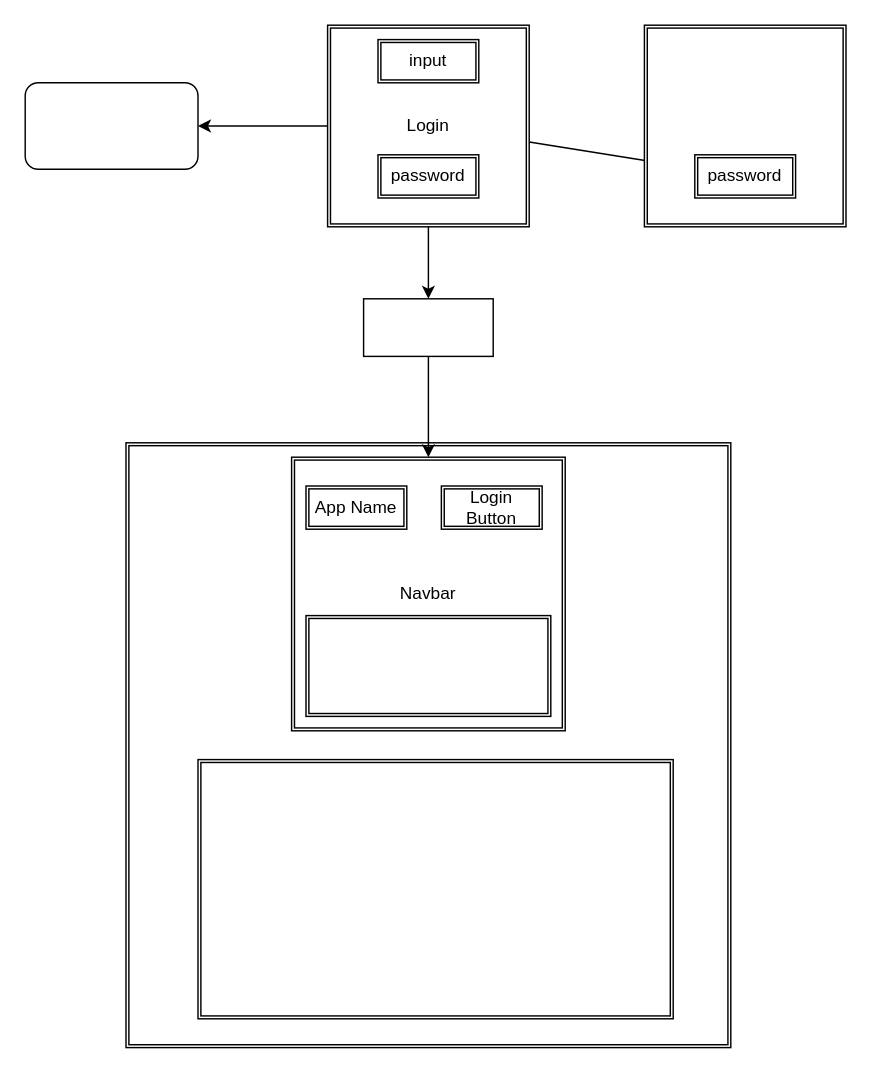
This 871x1073 diagram has some shape labels left out. Here are the shapes that lost their labels. From the top down, the box of each, then its label:
(24, 81, 198, 169): Authorisation
(643, 24, 846, 227): Signup
(362, 297, 493, 356): Username or ID
(305, 614, 551, 716): Unordered List - List items (Links)
